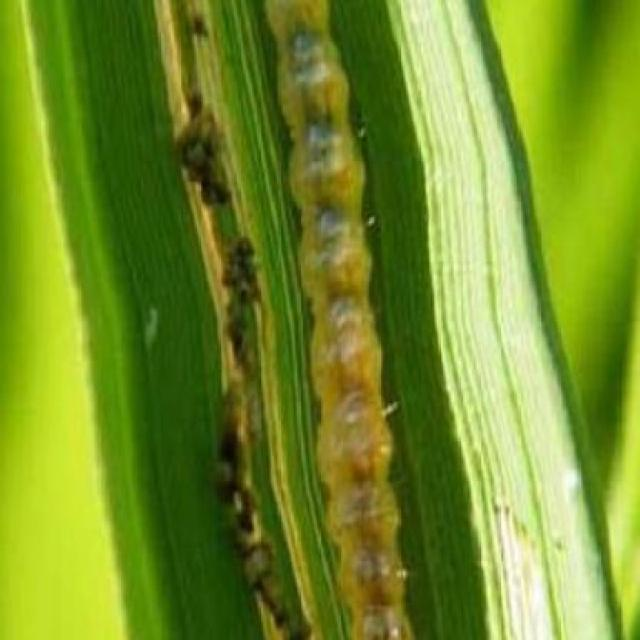leaf-folder: (240, 25, 423, 618)
